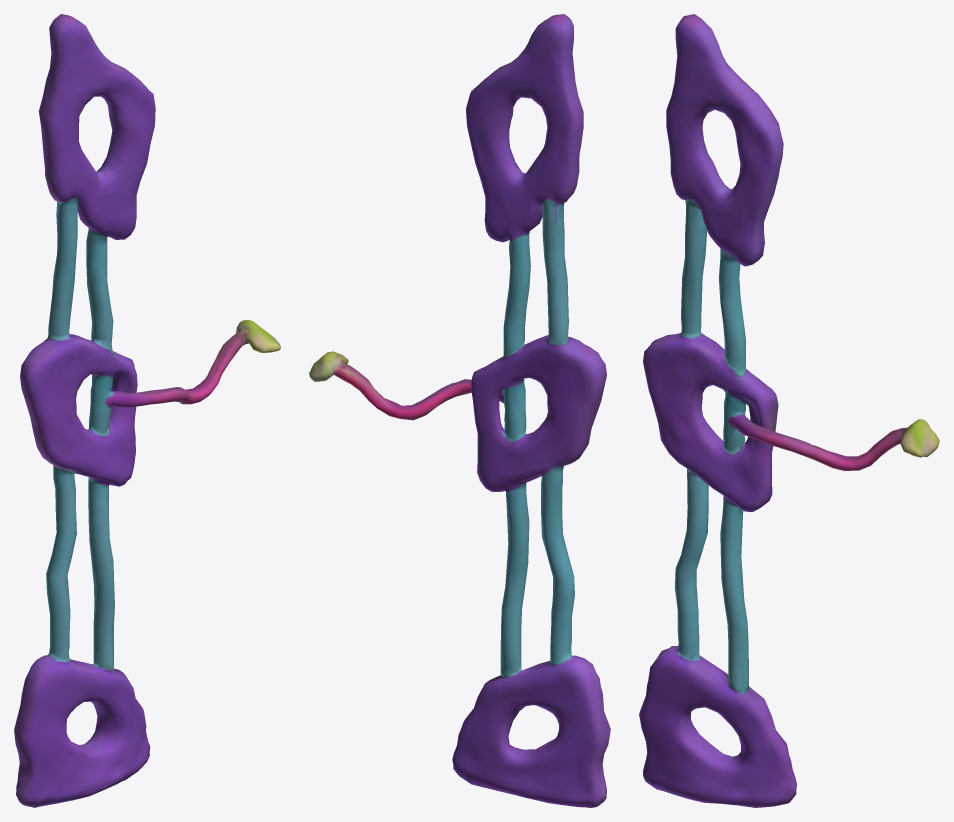
File: 53f03ece-63e7-4d5e-a9bb-b098bcc3d871.glb
3 views of the same model, side by side, from view 1: azimuth 30°, elevation 25°; view 2: azimuth 150°, elevation 25°; view 3: azimuth 330°, elevation 25° (orthographic).
Visible parts, largest first — view 1: tripo_node_8dc523f1-4aa6-428b-a77c-44249ed7a67a; view 2: tripo_node_8dc523f1-4aa6-428b-a77c-44249ed7a67a; view 3: tripo_node_8dc523f1-4aa6-428b-a77c-44249ed7a67a.
Boxes of the visible parts, box(x1,y1,x2,y2) form: tripo_node_8dc523f1-4aa6-428b-a77c-44249ed7a67a: box(14, 14, 280, 807); tripo_node_8dc523f1-4aa6-428b-a77c-44249ed7a67a: box(309, 14, 610, 807); tripo_node_8dc523f1-4aa6-428b-a77c-44249ed7a67a: box(639, 14, 939, 807).
Bounding box in the file's own units: 0.3659 × 1 × 0.0939.
Materials: 1 (1 with a texture image).
